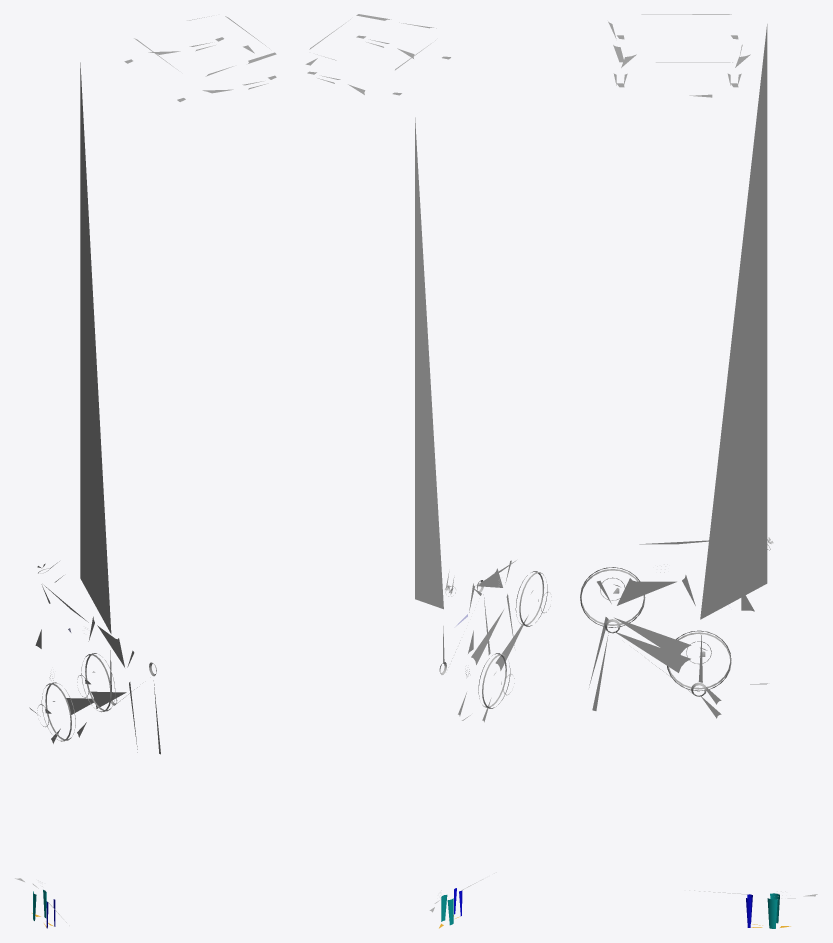
The picture shows the model from 3 angles, left to right: view 1: azimuth 30°, elevation 25°; view 2: azimuth 150°, elevation 25°; view 3: azimuth 270°, elevation 25°; orthographic projection. The views are drawn at different scales.
Parts seen in each view (by area): view 1: F19721000063102000127_001_zb_ub_auflage_27_fa (×2); view 2: F19721000063102000127_001_zb_ub_auflage_27_fa (×2); view 3: F19721000063102000127_001_zb_ub_auflage_27_fa (×2).
Part boxes in pixels (x1,y1,x2,y2): F19721000063102000127_001_zb_ub_auflage_27_fa (×2): (15, 16, 276, 925); F19721000063102000127_001_zb_ub_auflage_27_fa (×2): (305, 14, 551, 912); F19721000063102000127_001_zb_ub_auflage_27_fa (×2): (580, 14, 817, 899).
Bounding box in the file's own units: 163 × 147 × 645.
